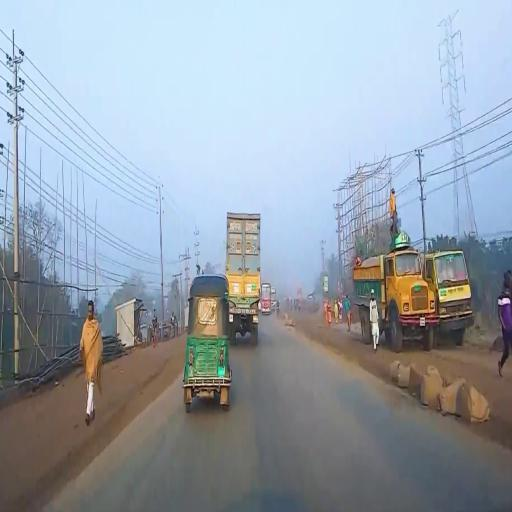bus: (263, 283, 272, 316), (271, 287, 277, 309)
motorbike: (278, 301, 281, 316)
three wheelers (CNG): (187, 272, 231, 408)
truck: (353, 238, 434, 351), (226, 208, 262, 347), (425, 248, 475, 346)
